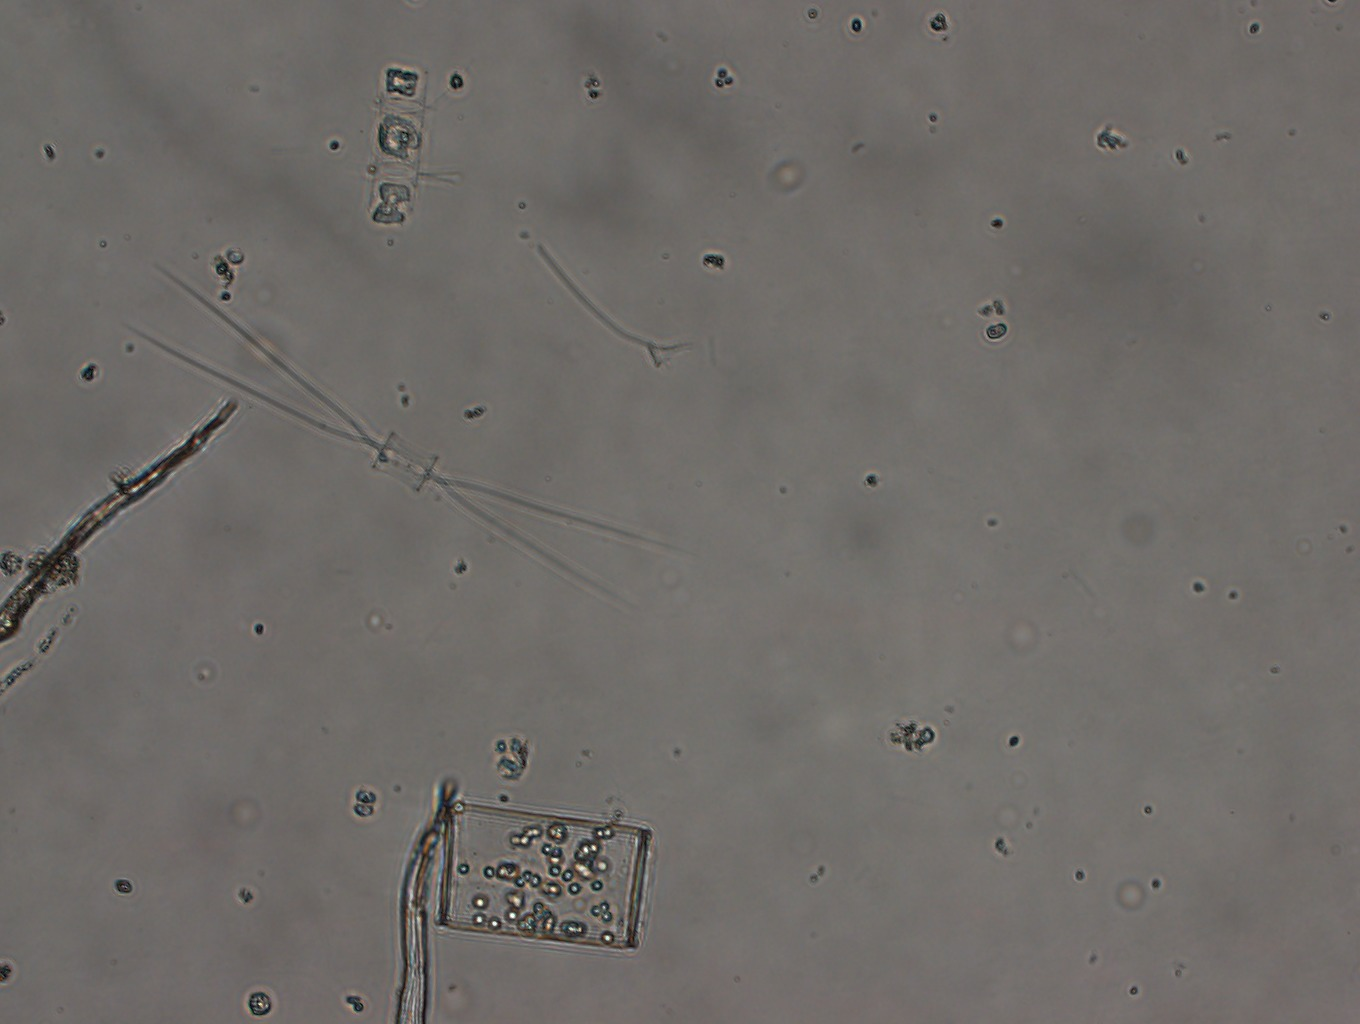chaetoceros: (129, 261, 686, 609), (364, 63, 466, 231)
guinardia flaccida: (433, 801, 650, 952)
